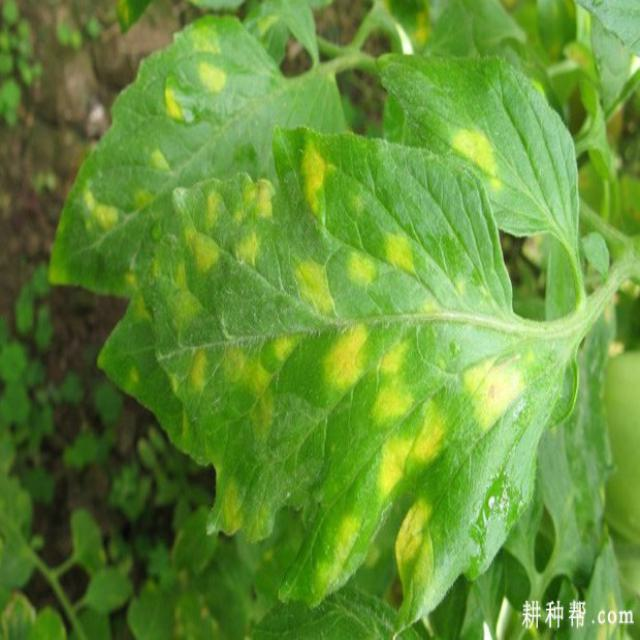Leaf_Mold: (128, 179, 277, 323), (369, 330, 445, 496), (218, 328, 305, 439), (459, 344, 530, 432), (392, 489, 439, 615), (311, 505, 358, 590), (315, 316, 364, 396), (217, 476, 274, 544), (451, 126, 504, 191), (296, 142, 333, 219), (290, 257, 337, 315), (82, 182, 121, 235), (384, 228, 419, 281), (181, 342, 212, 399), (344, 245, 376, 286), (194, 60, 229, 94), (158, 79, 184, 123)
